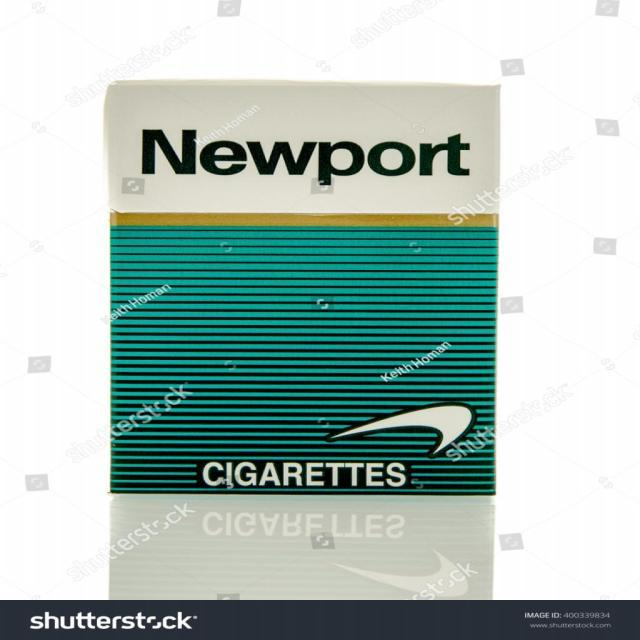smoking: (102, 78, 501, 496)
